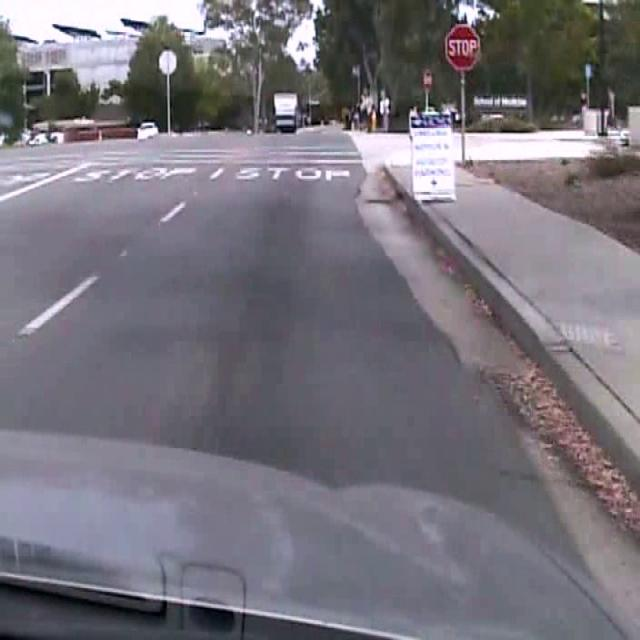stop: (445, 23, 480, 70)
